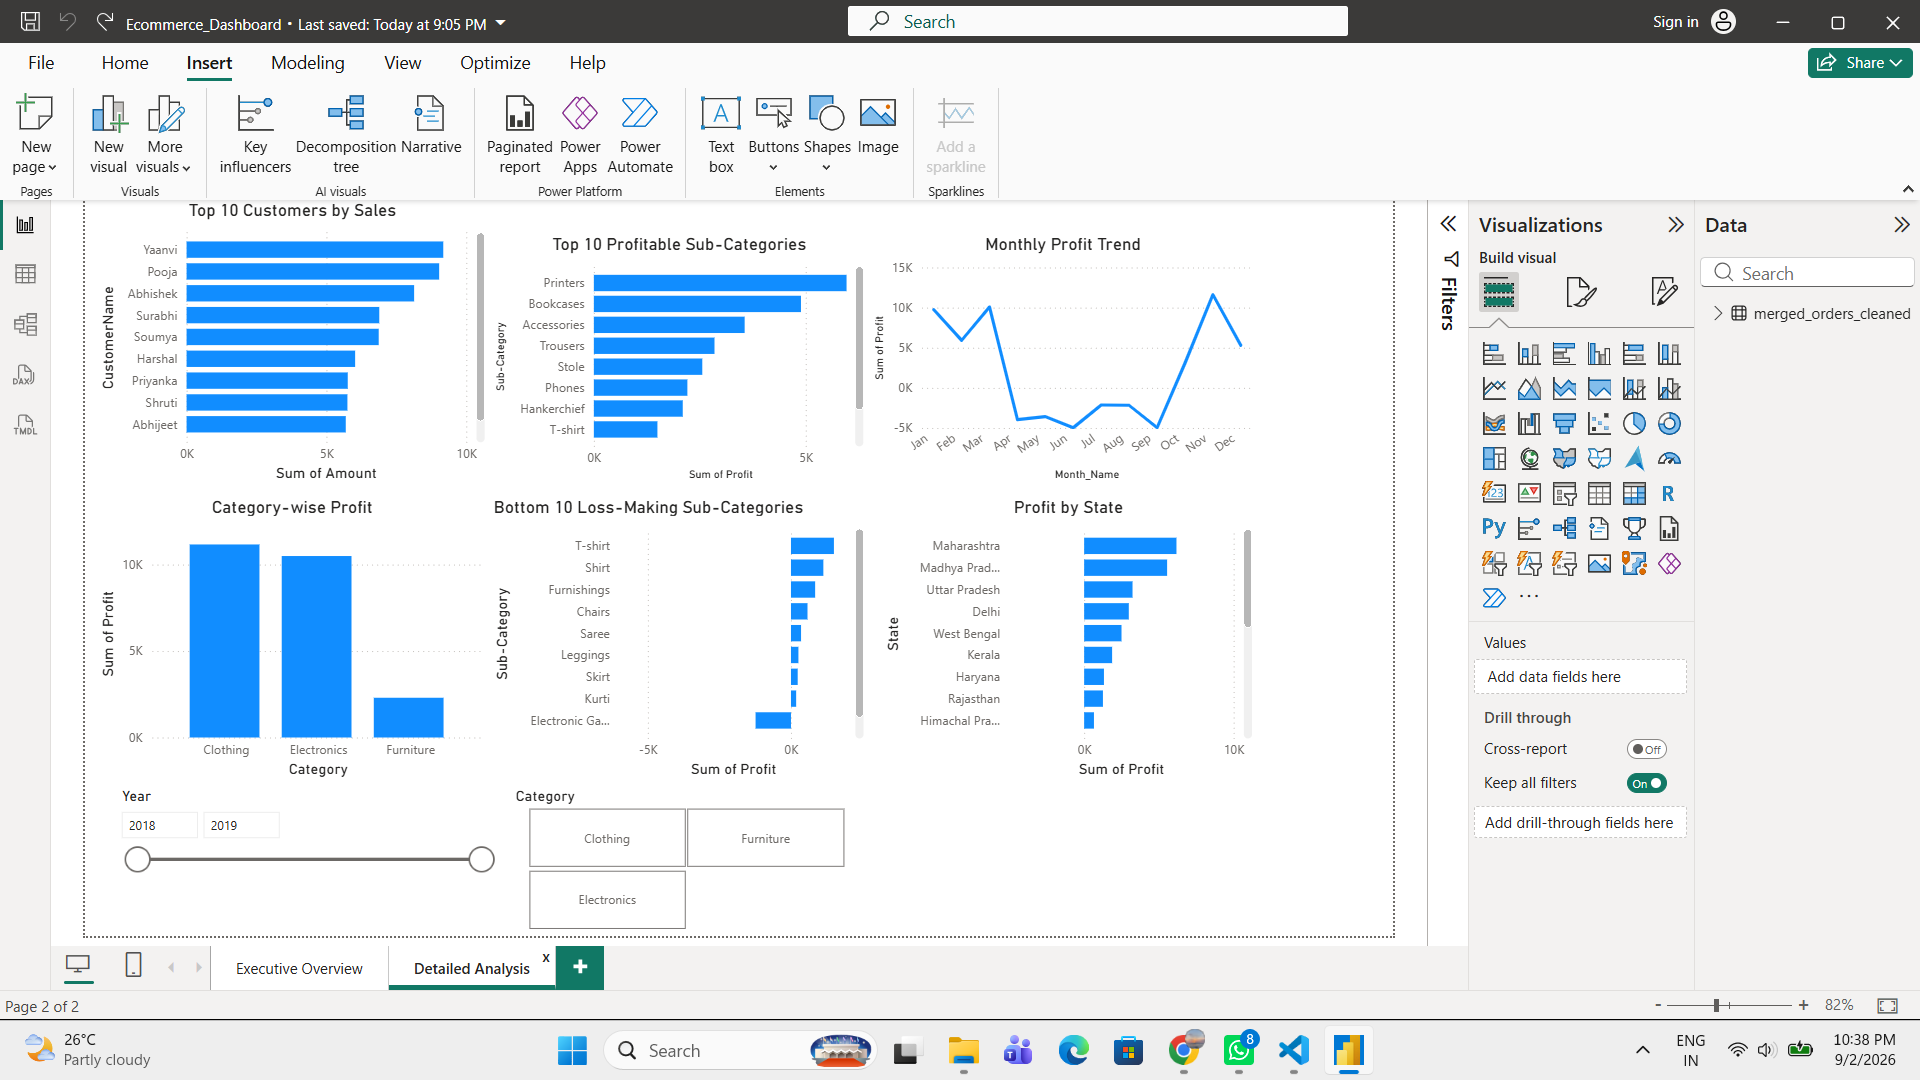

The page's visual inventory and layout, read from the dashboard file:
{"tool":"powerbi","page":{"name":"Detailed Analysis","canvas":[1280,720],"ordinal":1},"visuals":[{"type":"barChart","title":"Top 10 Customers by Sales","fields":{"Category":["merged_orders_cleaned.CustomerName"],"Y":["Sum(merged_orders_cleaned.Amount)"]},"box":[9.8,0,386.4,280],"z":0},{"type":"clusteredColumnChart","title":"Category-wise Profit","fields":{"Category":["merged_orders_cleaned.Category"],"Y":["Sum(merged_orders_cleaned.Profit)"]},"box":[10,290,386,280],"z":1000},{"type":"clusteredBarChart","title":"Top 10 Profitable Sub-Categories","fields":{"Category":["merged_orders_cleaned.Sub-Category"],"Y":["Sum(merged_orders_cleaned.Profit)"]},"box":[396.6,32.9,370.5,247],"z":2000},{"type":"clusteredBarChart","title":"Bottom 10 Loss-Making Sub-Categories","fields":{"Category":["merged_orders_cleaned.Sub-Category"],"Y":["Sum(merged_orders_cleaned.Profit)"]},"box":[395.2,289.5,371.9,279.9],"z":3000},{"type":"lineChart","title":"Monthly Profit Trend","fields":{"Category":["merged_orders_cleaned.Month_Name"],"Y":["Sum(merged_orders_cleaned.Profit)"]},"box":[767.1,32.9,380.1,247],"z":3001},{"type":"clusteredBarChart","title":"Profit by State","fields":{"Category":["merged_orders_cleaned.State"],"Y":["Sum(merged_orders_cleaned.Profit)"]},"box":[778,289.5,369.1,279.9],"z":3002},{"type":"slicer","fields":{"Values":["merged_orders_cleaned.Year"]},"box":[23.3,569.5,386,150],"z":3003},{"type":"slicer","fields":{"Values":["merged_orders_cleaned.Category"]},"box":[409,570,358,150],"z":3004}]}

Visuals, with their boxes on the page's 1280x720 design canvas (x1, y1, x2, y2). These are canvas units, not pixel positions in the 1920x1080 screenshot, which may show the page scaled, cropped or inside an application window:
"Top 10 Customers by Sales" barChart: [10,0,396,280]
"Category-wise Profit" clusteredColumnChart: [10,290,396,570]
"Top 10 Profitable Sub-Categories" clusteredBarChart: [397,33,767,280]
"Bottom 10 Loss-Making Sub-Categories" clusteredBarChart: [395,290,767,569]
"Monthly Profit Trend" lineChart: [767,33,1147,280]
"Profit by State" clusteredBarChart: [778,290,1147,569]
slicer - merged_orders_cleaned.Year: [23,570,409,720]
slicer - merged_orders_cleaned.Category: [409,570,767,720]
